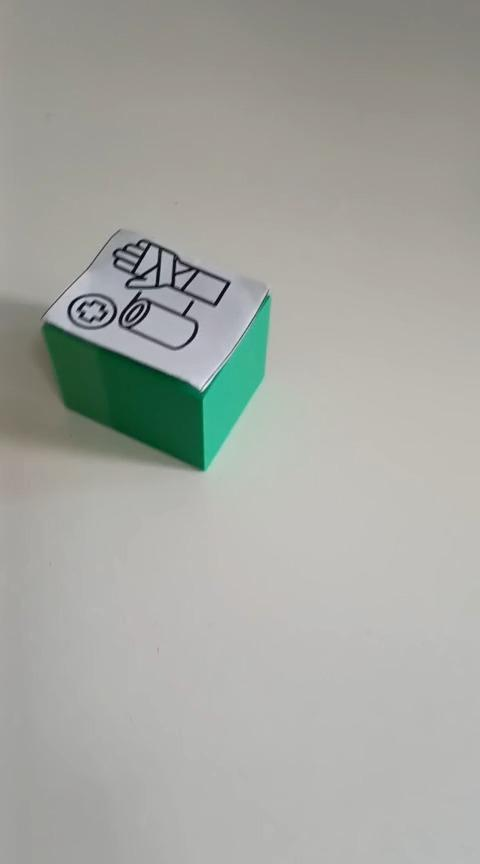Bandages: (39, 227, 271, 471)
